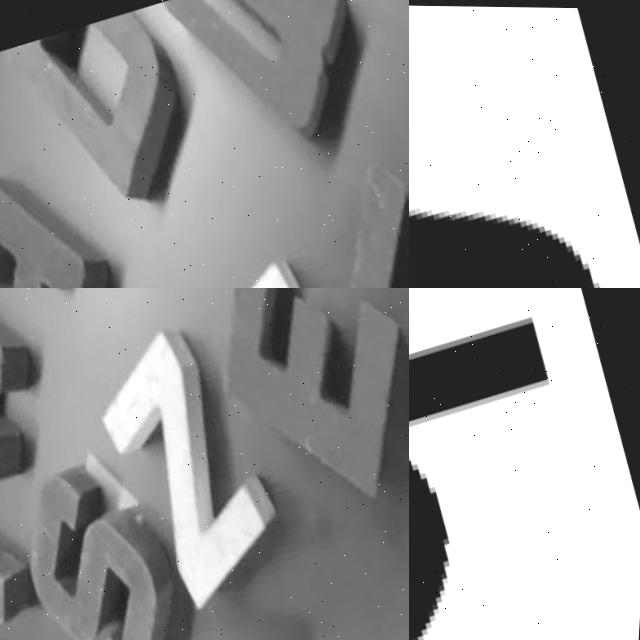A: (0, 135, 155, 288), (0, 288, 71, 497)
D: (0, 0, 228, 246)
E: (183, 288, 409, 530)
Q: (409, 303, 638, 640)
S: (3, 441, 212, 640)
T: (0, 438, 49, 640)
W: (151, 0, 397, 166)
Y: (409, 35, 640, 288)
Z: (74, 297, 309, 627)
